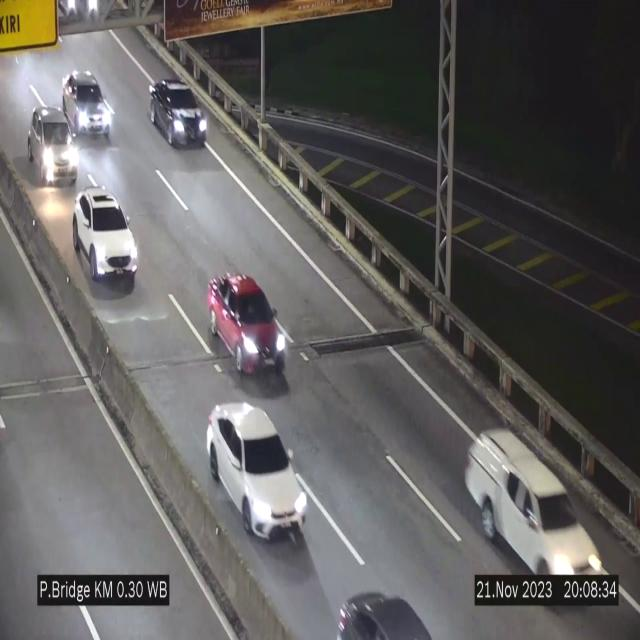Car: (464, 425, 604, 574), (206, 402, 308, 538), (208, 274, 288, 378), (329, 578, 442, 640), (72, 188, 138, 282), (25, 97, 78, 189), (64, 62, 116, 145), (149, 78, 207, 146)
